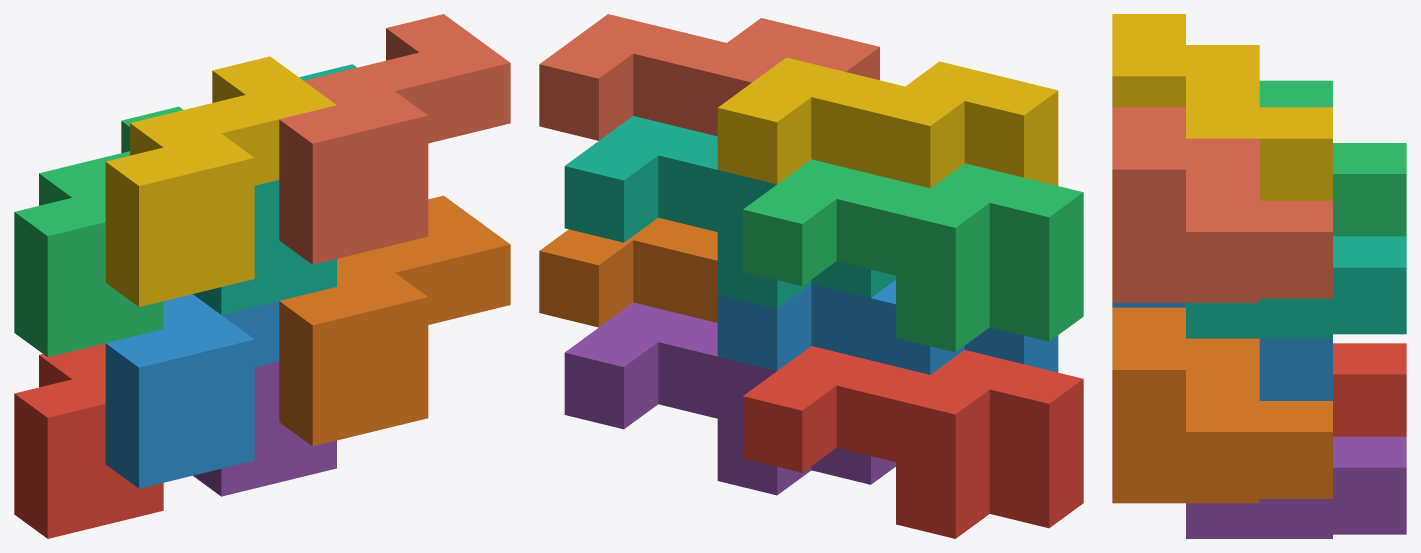
File: tiling.obj
3 views of the same model, side by side, from view 1: azimuth 30°, elevation 25°; view 2: azimuth 150°, elevation 25°; view 3: azimuth 270°, elevation 25° (orthographic). The views are drawn at different scales.
Visible parts, largest first — view 1: copy_1_domain_8, copy_1_domain_6, copy_1_domain_4, copy_1_domain_2, copy_1_domain_3, copy_1_domain_1, copy_1_domain_7, copy_1_domain_5; view 2: copy_1_domain_1, copy_1_domain_3, copy_1_domain_4, copy_1_domain_8, copy_1_domain_7, copy_1_domain_5, copy_1_domain_2, copy_1_domain_6; view 3: copy_1_domain_6, copy_1_domain_8, copy_1_domain_4, copy_1_domain_7, copy_1_domain_5, copy_1_domain_3, copy_1_domain_1, copy_1_domain_2.
Boxes of the visible parts, left/top/right/bottom form: copy_1_domain_8: left=279, top=14, right=510, bottom=264; copy_1_domain_6: left=279, top=195, right=510, bottom=446; copy_1_domain_4: left=105, top=56, right=336, bottom=306; copy_1_domain_2: left=105, top=294, right=279, bottom=488; copy_1_domain_3: left=14, top=106, right=183, bottom=357; copy_1_domain_1: left=14, top=343, right=163, bottom=538; copy_1_domain_7: left=193, top=64, right=356, bottom=314; copy_1_domain_5: left=193, top=361, right=336, bottom=496; copy_1_domain_1: left=743, top=346, right=1083, bottom=538; copy_1_domain_3: left=743, top=159, right=1083, bottom=352; copy_1_domain_4: left=717, top=57, right=1058, bottom=188; copy_1_domain_8: left=539, top=14, right=879, bottom=140; copy_1_domain_7: left=564, top=116, right=895, bottom=308; copy_1_domain_5: left=564, top=302, right=895, bottom=495; copy_1_domain_2: left=717, top=280, right=1058, bottom=374; copy_1_domain_6: left=539, top=217, right=717, bottom=327; copy_1_domain_6: left=1112, top=307, right=1332, bottom=503; copy_1_domain_8: left=1112, top=107, right=1332, bottom=302; copy_1_domain_4: left=1112, top=14, right=1332, bottom=200; copy_1_domain_7: left=1186, top=236, right=1406, bottom=338; copy_1_domain_5: left=1186, top=436, right=1406, bottom=538; copy_1_domain_3: left=1259, top=80, right=1406, bottom=236; copy_1_domain_1: left=1333, top=343, right=1406, bottom=436; copy_1_domain_2: left=1112, top=303, right=1332, bottom=400.
Bounding box in the file's own units: 8 × 6 × 4.
